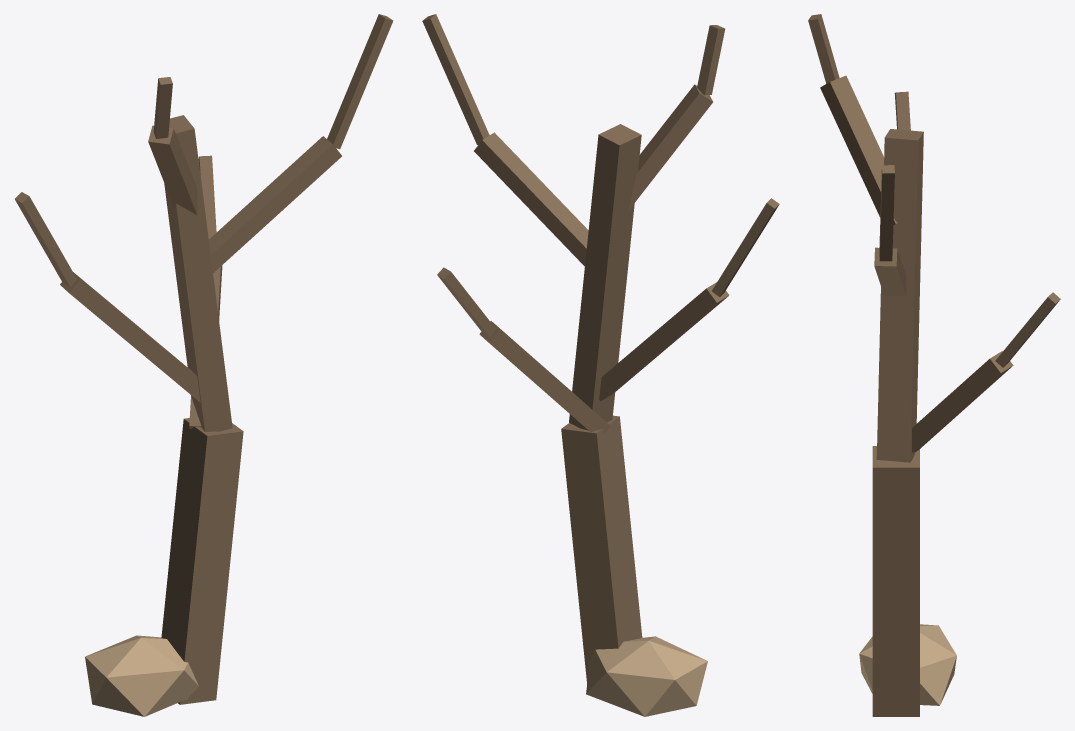
File: SM_AngularTree.fbx
3 views of the same model, side by side, from view 1: azimuth 30°, elevation 25°; view 2: azimuth 150°, elevation 25°; view 3: azimuth 270°, elevation 25° (orthographic). The views are drawn at different scales.
Parts seen in each view (by area): view 1: SM_AngularTree; view 2: SM_AngularTree; view 3: SM_AngularTree.
Part boxes in pixels (x1,y1,x2,y2): SM_AngularTree: (15,14,393,716); SM_AngularTree: (422,14,779,716); SM_AngularTree: (808,14,1060,716).
Size of the model in its own units: 1.61 by 0.9598 by 2.77.
